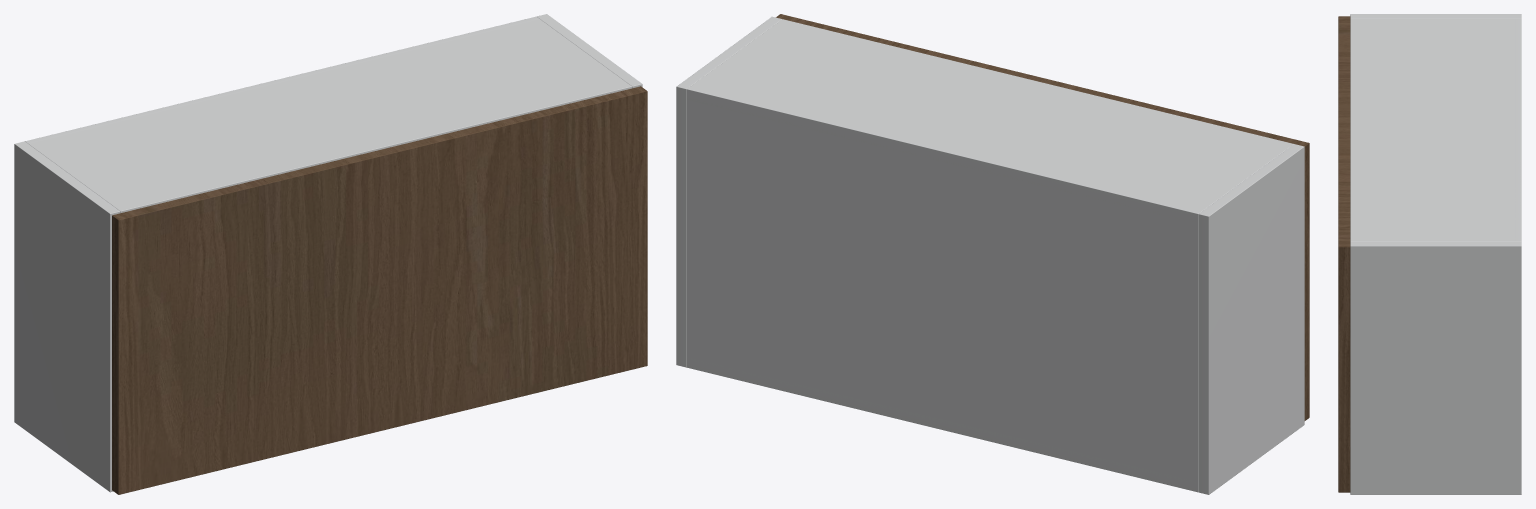
Rendered from oppein-ply-mso-wsl3618.glb.
3 renders of one model, left to right at view 1: azimuth 30°, elevation 25°; view 2: azimuth 150°, elevation 25°; view 3: azimuth 270°, elevation 25°, orthographic. The views are drawn at different scales.
Parts seen in each view (by area): view 1: Door, Cabinet top, Cabinet side, Cabinet back, Cabinet side.001; view 2: Cabinet back, Cabinet top, Cabinet side, Door, Cabinet side.001, Cabinet bottom; view 3: Cabinet side.001, Cabinet top, Door, Cabinet back, Cabinet side.
Boxes of the visible parts, left/top/right/bottom form: Door: left=112, top=86, right=647, bottom=494; Cabinet top: left=29, top=19, right=631, bottom=213; Cabinet side: left=14, top=141, right=120, bottom=492; Cabinet back: left=25, top=16, right=539, bottom=143; Cabinet side.001: left=537, top=14, right=642, bottom=88; Cabinet back: left=687, top=86, right=1201, bottom=492; Cabinet top: left=687, top=19, right=1293, bottom=221; Cabinet side: left=1198, top=144, right=1304, bottom=494; Door: left=776, top=14, right=1309, bottom=420; Cabinet side.001: left=676, top=16, right=781, bottom=367; Cabinet bottom: left=687, top=357, right=1198, bottom=491; Cabinet side.001: left=1350, top=241, right=1521, bottom=494; Cabinet top: left=1350, top=18, right=1521, bottom=241; Door: left=1338, top=16, right=1350, bottom=492; Cabinet back: left=1514, top=18, right=1521, bottom=241; Cabinet side: left=1350, top=14, right=1521, bottom=18.
Bounding box in the file's own units: 0.9144 × 0.4572 × 0.3048.
2 materials, 1 textured.
